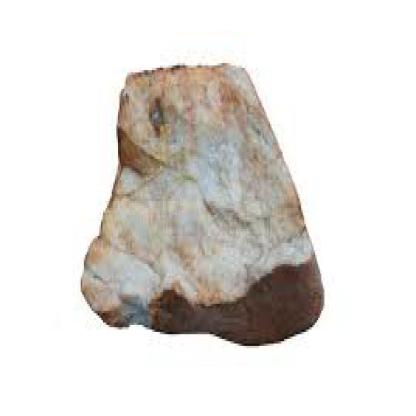Metamorphic_Quartize: (73, 37, 334, 346)
